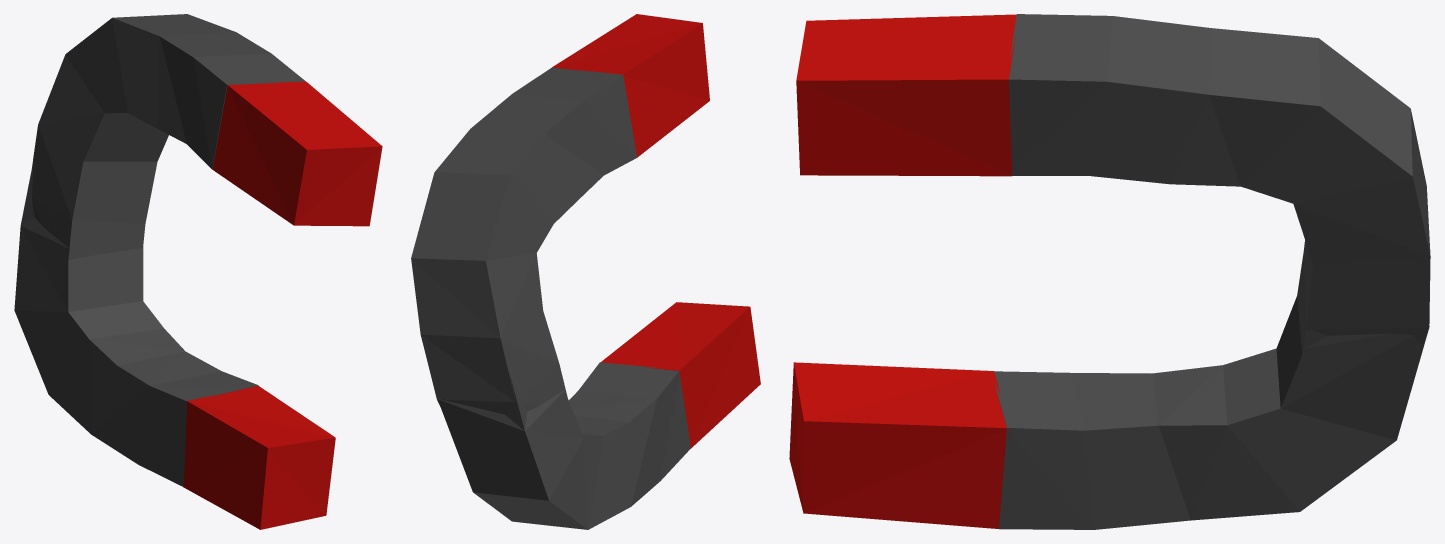
The model's file is glb.fbx.
3 renders of one model, left to right at view 1: azimuth 30°, elevation 25°; view 2: azimuth 150°, elevation 25°; view 3: azimuth 270°, elevation 25°, orthographic. The views are drawn at different scales.
Parts seen in each view (by area): view 1: node_MeshObject1809554944-PolyPaper22_0; view 2: node_MeshObject1809554944-PolyPaper22_0; view 3: node_MeshObject1809554944-PolyPaper22_0.
Part boxes in pixels (left/top/right/bottom): node_MeshObject1809554944-PolyPaper22_0: left=14, top=14, right=382, bottom=529; node_MeshObject1809554944-PolyPaper22_0: left=411, top=14, right=760, bottom=529; node_MeshObject1809554944-PolyPaper22_0: left=789, top=14, right=1430, bottom=529.
Size of the model in its own units: 0.404 by 0.9719 by 1.11.
